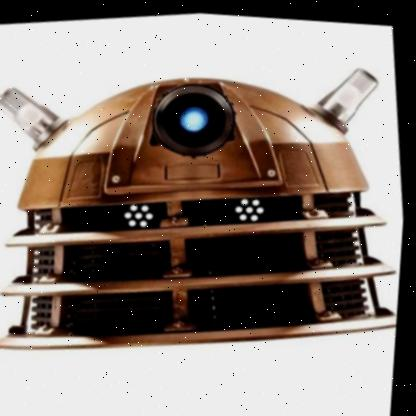dalek: (0, 16, 415, 401)
